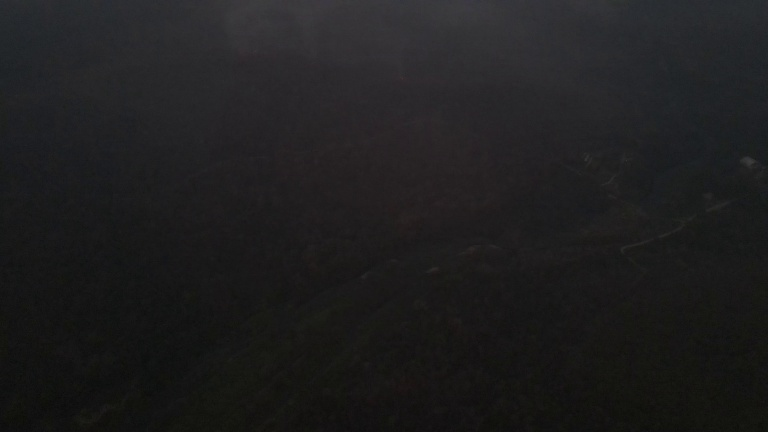fire: (397, 72, 409, 82)
smoke: (222, 1, 408, 66)
